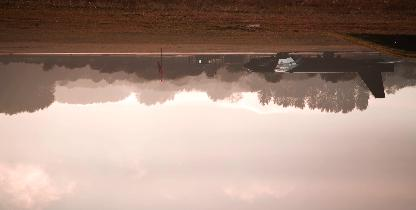B2: (242, 54, 406, 98)
